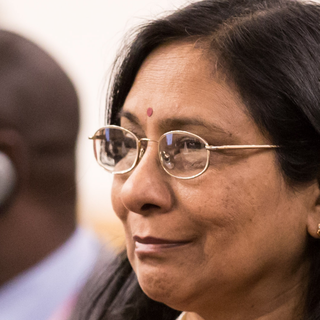eye: (171, 134, 213, 158)
